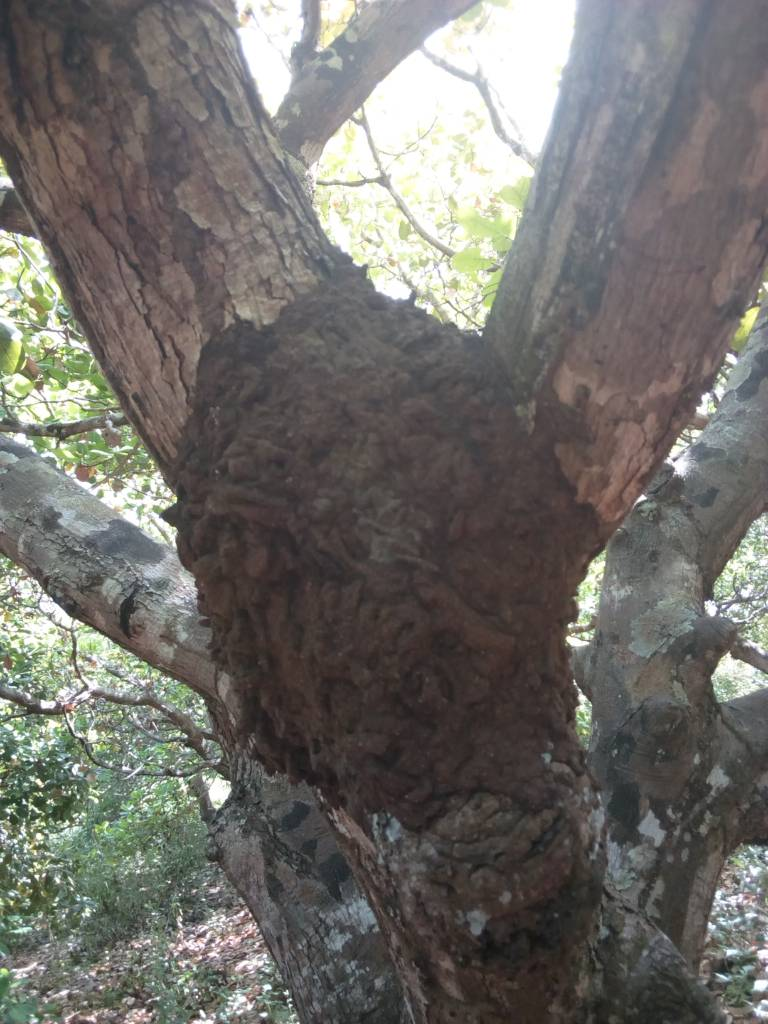Termites: (199, 316, 579, 778)
